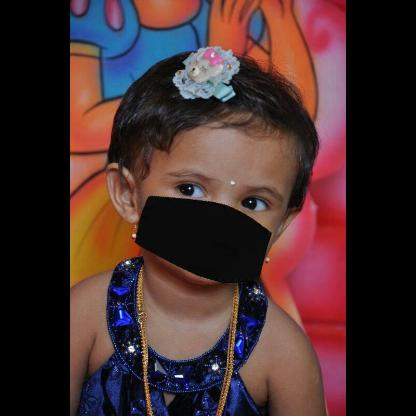Fabric/Cloth Mask: (116, 107, 300, 277)
